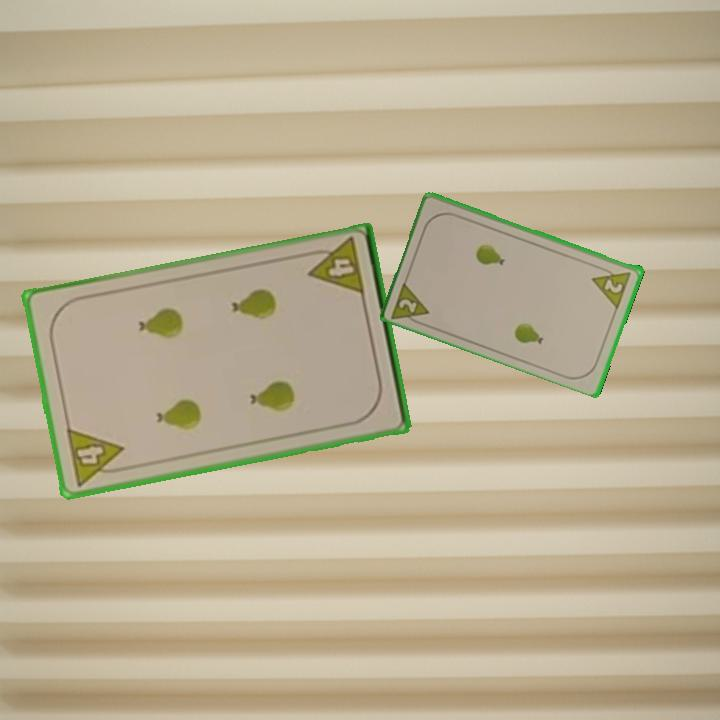2p: (388, 276, 433, 329), (589, 261, 634, 310)
4p: (63, 424, 130, 489), (302, 234, 367, 299)
